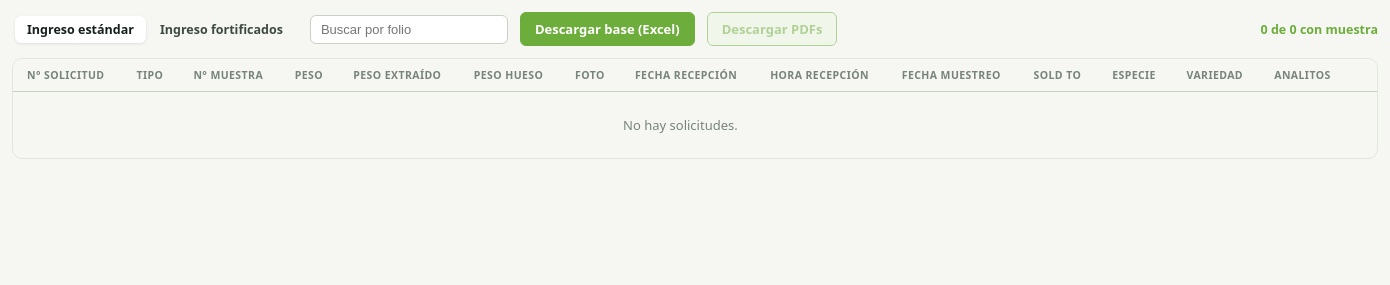
Test: Ingreso de fortificados › muestra N°, peso, fecha y hora de ingreso de lo ya ingresado
Click the tab "Ingreso fortificados" at (221, 29), box [148,16,295,42]
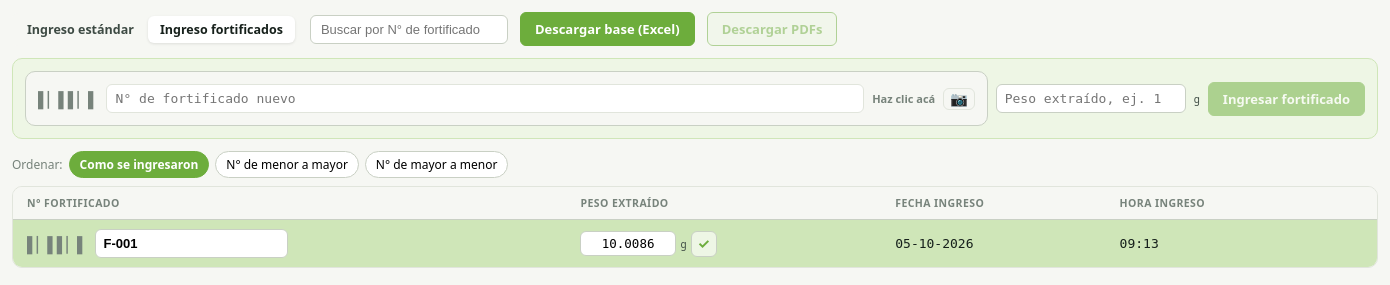
Now the field showing "F-001" is shown, box [95,229,288,258]
Now the number field showing "10.0086" is shown, box [580,231,676,256]
Now the text "05-10-2026" is shown, box [881,220,1106,267]
